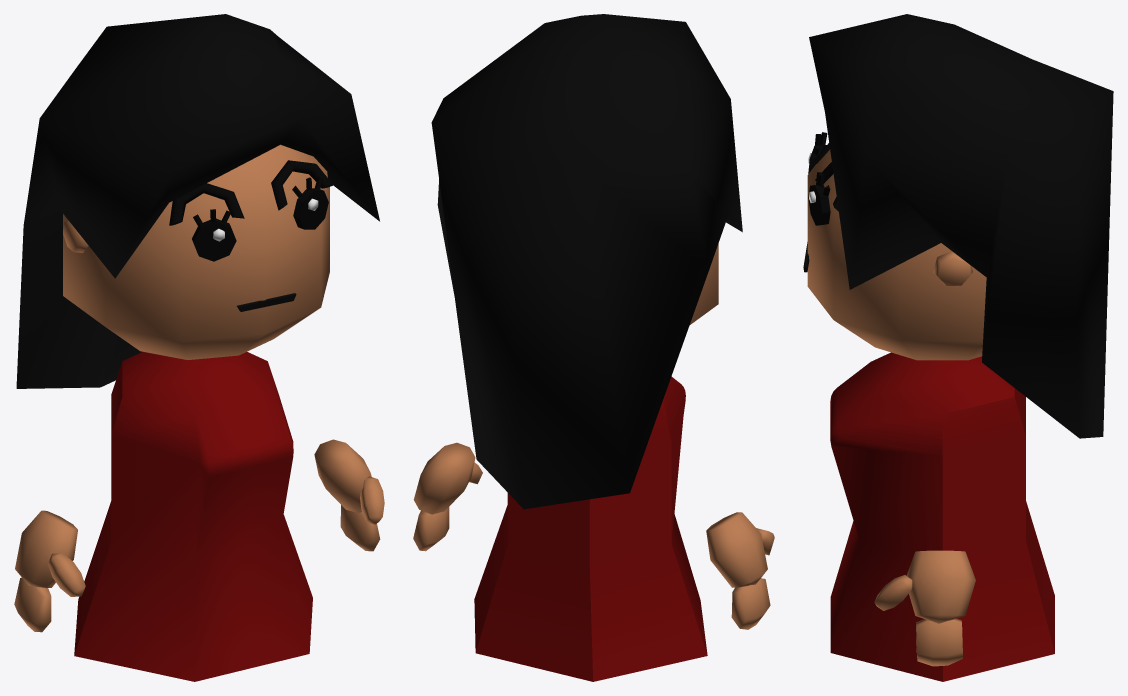
The model's file is mujer_2.fbx.
The picture shows the model from 3 angles, left to right: view 1: azimuth 30°, elevation 25°; view 2: azimuth 150°, elevation 25°; view 3: azimuth 270°, elevation 25°; orthographic projection. The views are drawn at different scales.
Parts seen in each view (by area): view 1: Pelo001, Cuerpo001, Cabeza001, Palma Izquerda002, Palma Izquerda003, Ojo Derecho001, Dedos Izquierdos002, Ojo Izquierdo001, Ceja Derecha001, Dedos Izquierdos003, DedoPulga Izquierdo003, Ceja Izquierda001 (+1 smaller); view 2: Pelo001, Cuerpo001, Palma Izquerda002, Palma Izquerda003, Dedos Izquierdos002, Dedos Izquierdos003, Cabeza001; view 3: Pelo001, Cuerpo001, Cabeza001, Palma Izquerda003, Dedos Izquierdos003, Oreja Derecha003, DedoPulga Izquierdo002, Ojo Izquierdo001.
Boxes of the visible parts, box(x1,y1,x2,y2) form: Pelo001: box(16, 14, 379, 388); Cuerpo001: box(74, 352, 312, 681); Cabeza001: box(63, 144, 329, 359); Palma Izquerda002: box(15, 510, 77, 587); Palma Izquerda003: box(314, 439, 371, 512); Ojo Derecho001: box(192, 209, 236, 261); Dedos Izquierdos002: box(14, 577, 51, 632); Ojo Izquierdo001: box(292, 177, 328, 229); Ceja Derecha001: box(169, 183, 244, 225); Dedos Izquierdos003: box(340, 505, 380, 551); DedoPulga Izquierdo003: box(48, 553, 85, 596); Ceja Izquierda001: box(271, 160, 332, 210); Pelo001: box(431, 14, 742, 509); Cuerpo001: box(474, 376, 707, 681); Palma Izquerda002: box(706, 512, 767, 587); Palma Izquerda003: box(413, 442, 475, 514); Dedos Izquierdos002: box(731, 578, 770, 629); Dedos Izquierdos003: box(413, 507, 449, 551); Cabeza001: box(690, 243, 718, 324); Pelo001: box(809, 14, 1113, 438); Cuerpo001: box(830, 352, 1054, 681); Cabeza001: box(807, 149, 986, 360); Palma Izquerda003: box(906, 550, 975, 623); Dedos Izquierdos003: box(916, 618, 962, 666); Oreja Derecha003: box(933, 251, 972, 285); DedoPulga Izquierdo002: box(874, 575, 912, 610); Ojo Izquierdo001: box(808, 172, 830, 225).
Size of the model in its own units: 1.41 by 2.35 by 1.09.
